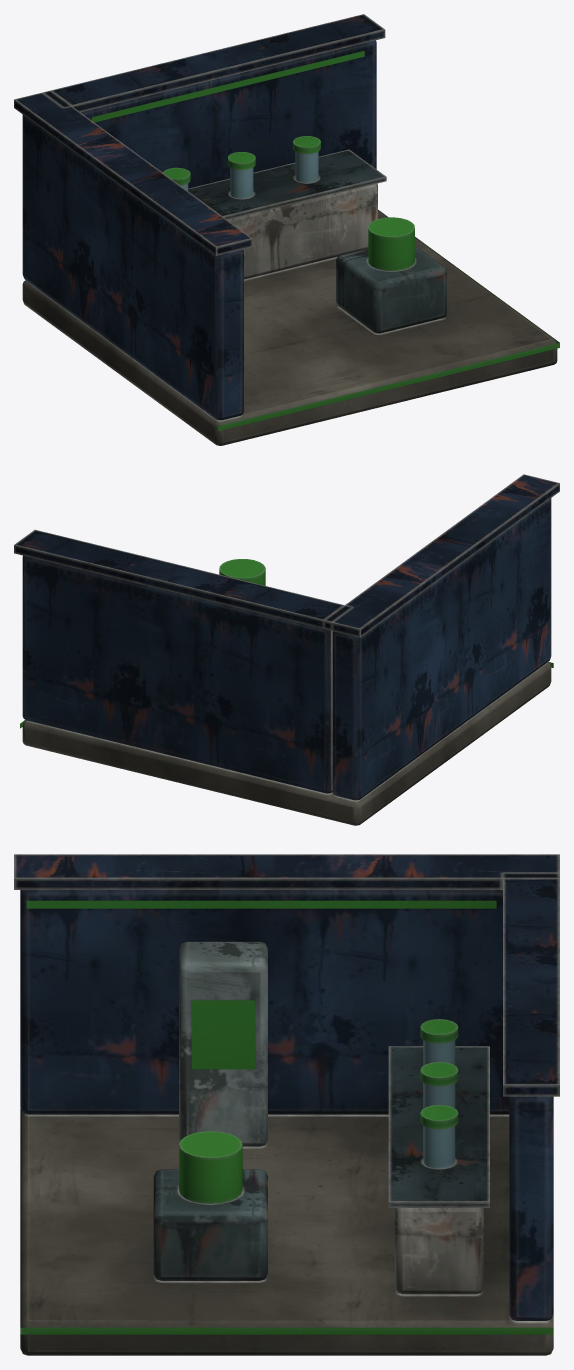
The model's file is biology_lab.glb.
3 views of the same model, one above another, from view 1: azimuth 30°, elevation 25°; view 2: azimuth 150°, elevation 25°; view 3: azimuth 270°, elevation 25° (orthographic). The views are drawn at different scales.
Parts seen in each view (by area): view 1: te_biology_lab; view 2: te_biology_lab; view 3: te_biology_lab.
Boxes of the visible parts, x1=… form: te_biology_lab: x1=14, y1=14, x2=559, y2=445; te_biology_lab: x1=14, y1=474, x2=559, y2=825; te_biology_lab: x1=14, y1=854, x2=559, y2=1355.
Size of the model in its own units: 0.86 by 0.48 by 0.86.
Materials: 1 (1 with a texture image).
